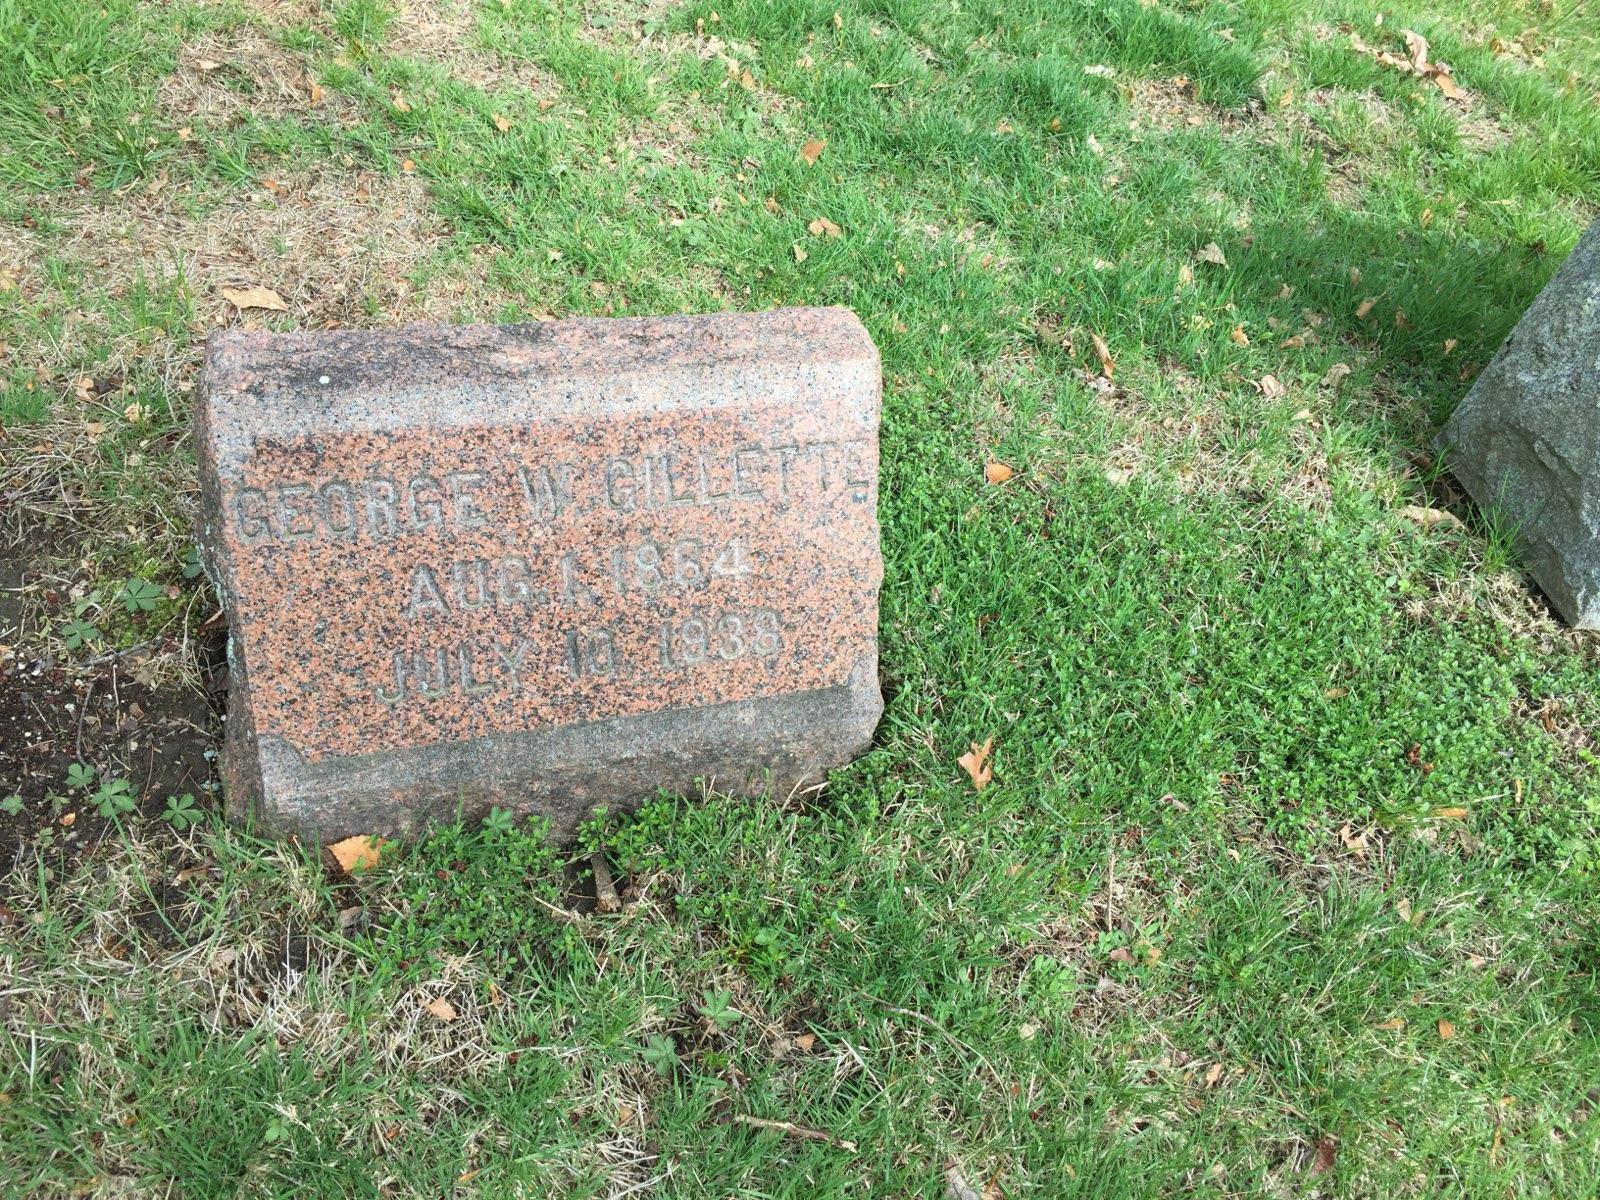slant: (194, 301, 886, 831)
